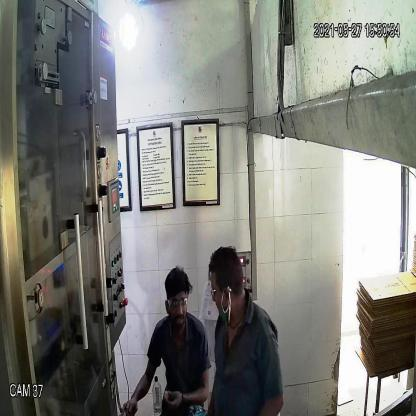goggles: (163, 294, 190, 313)
